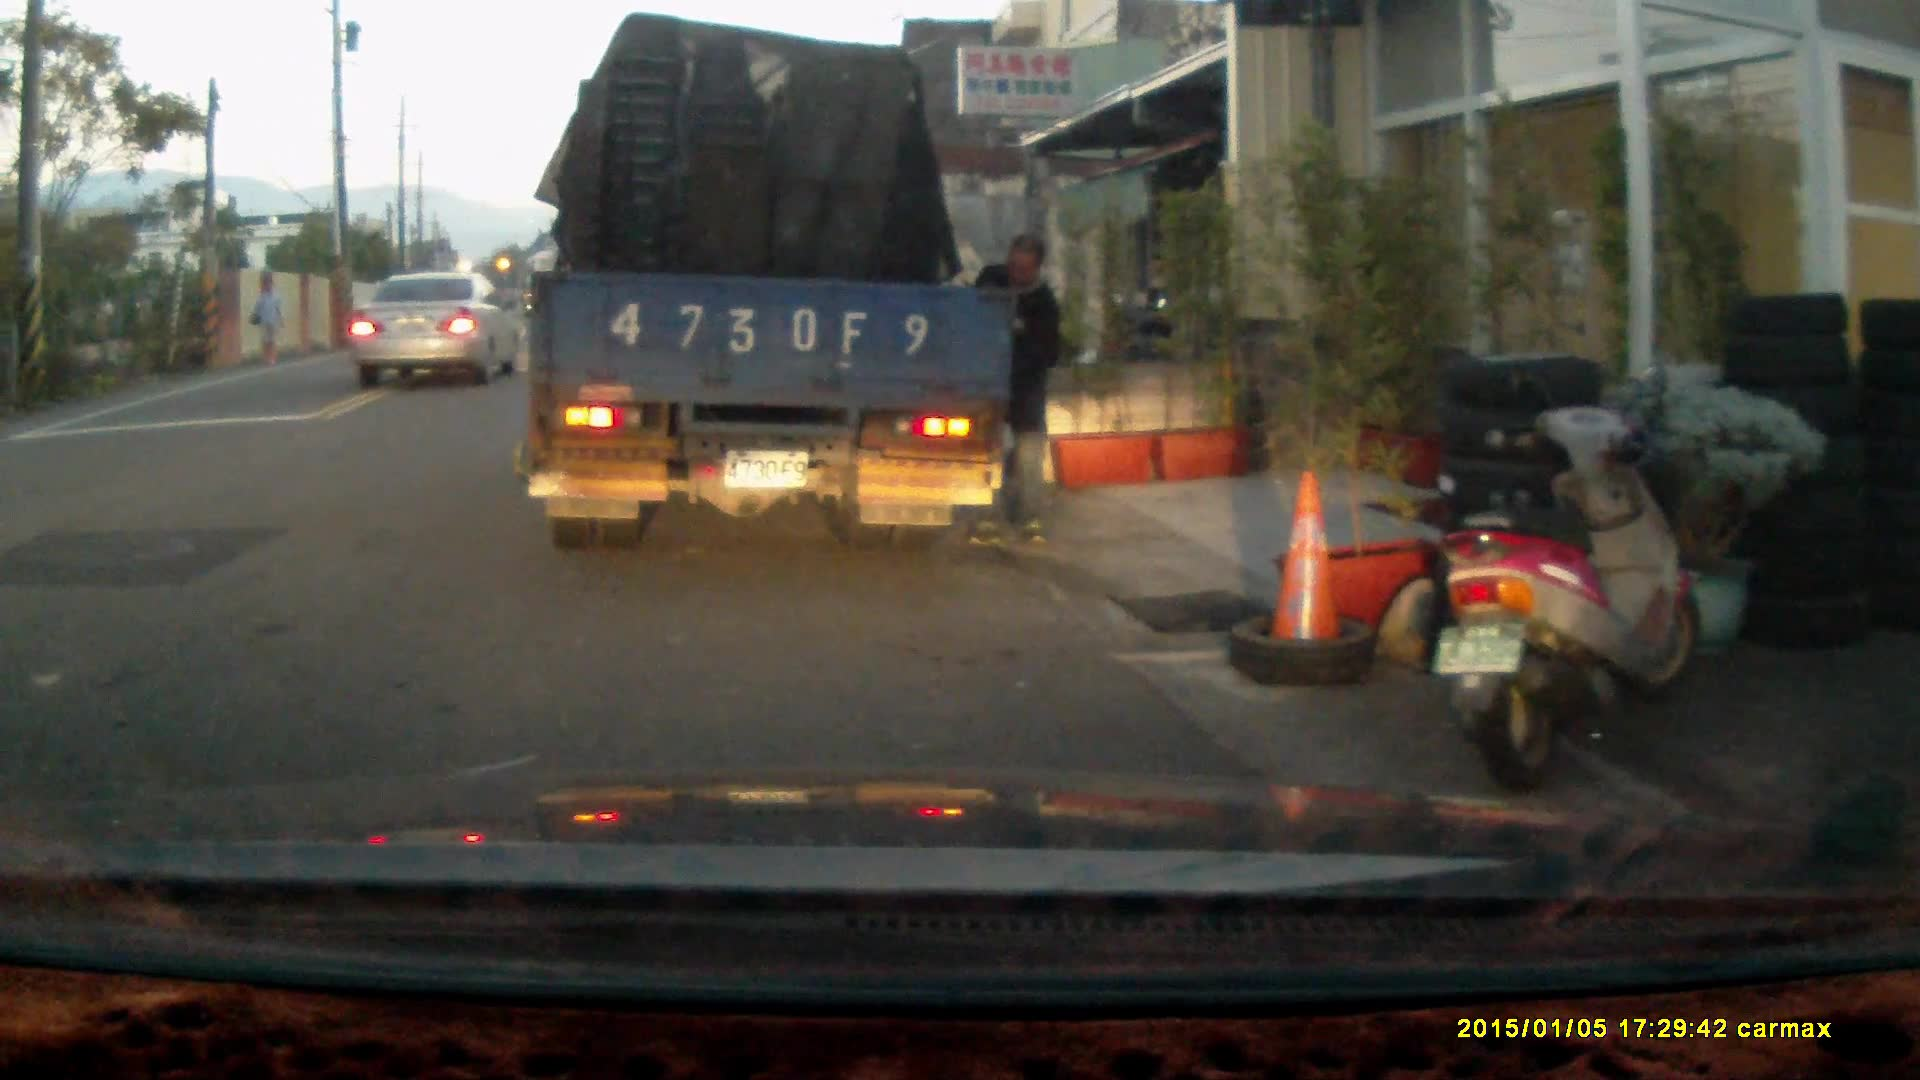pedestrian: (962, 229, 1058, 552), (242, 271, 282, 364)
vehicle: (520, 26, 1000, 548), (351, 270, 527, 386)
